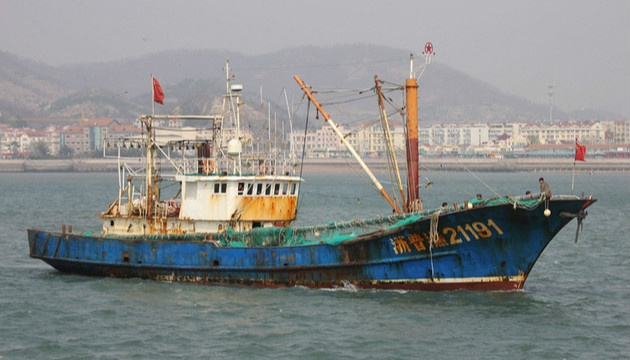otherboat: (25, 55, 610, 294)
